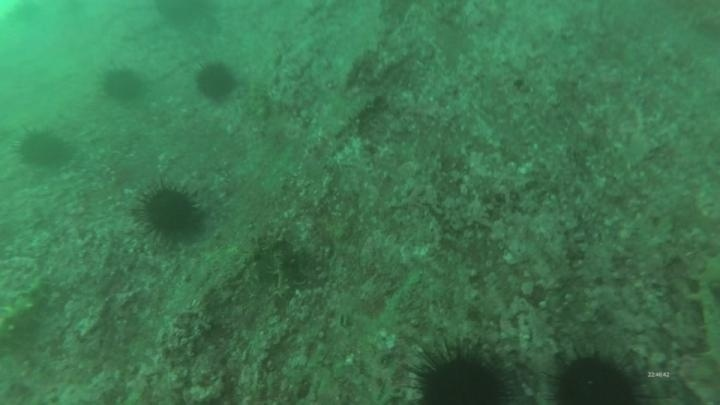echinus: (406, 337, 516, 404), (549, 347, 651, 404), (132, 179, 208, 245), (14, 125, 74, 170), (151, 1, 221, 32), (193, 59, 239, 103), (99, 65, 147, 104)
holothurian: (0, 273, 54, 349), (686, 251, 720, 363)
